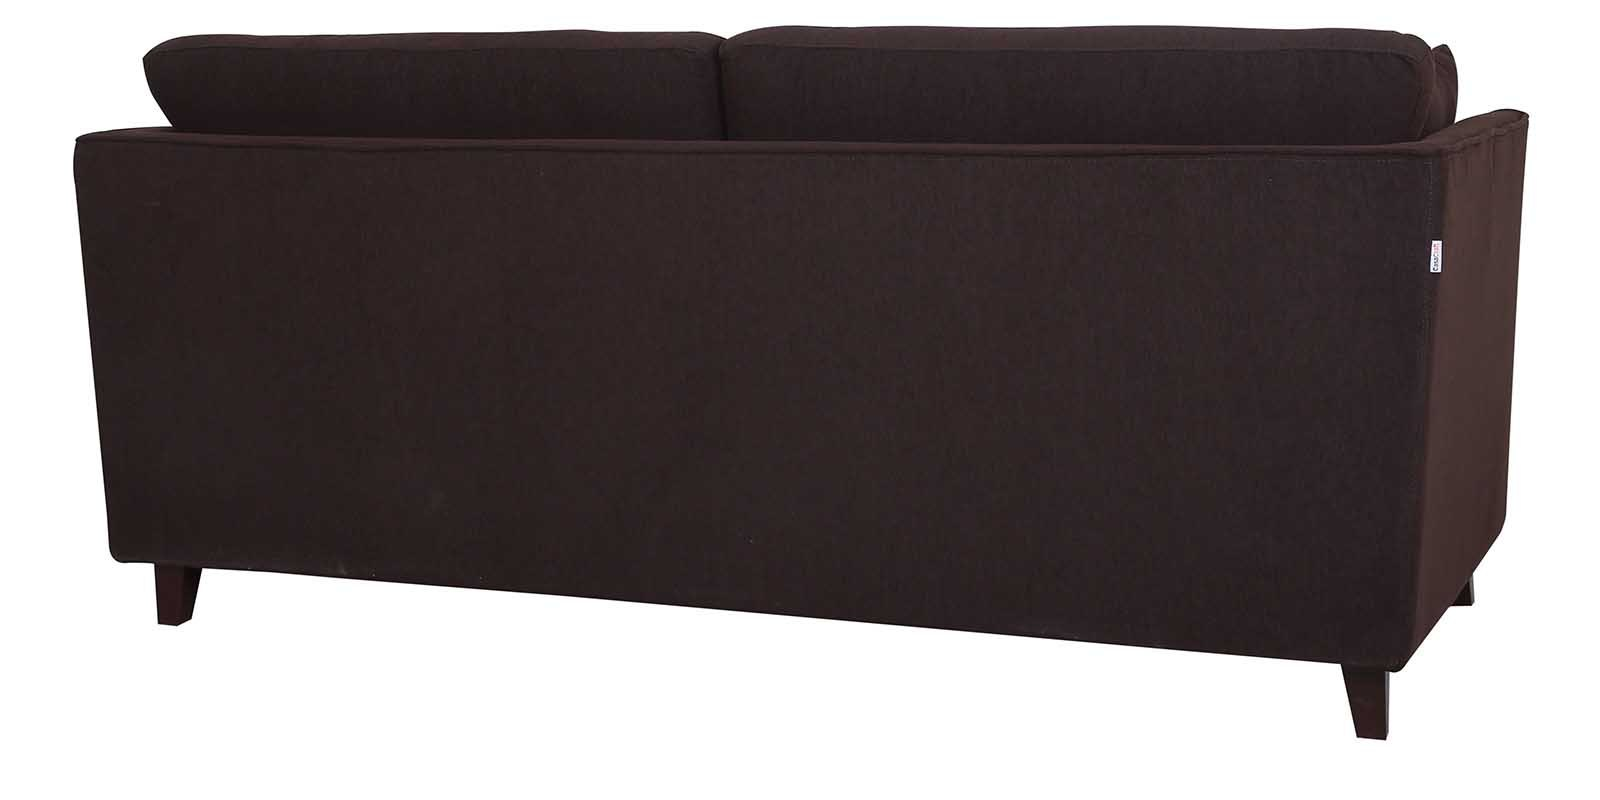Miranda Three Seater Sofa in Chestnut Brown Colour by CasaCraft: (70, 24, 1530, 742)
